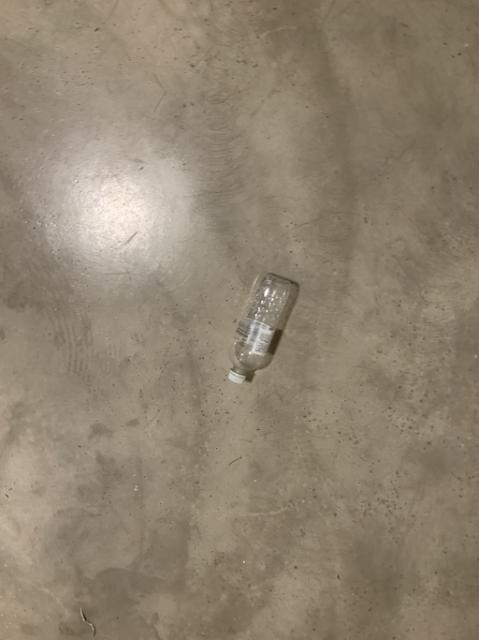plastic: (228, 272, 297, 382)
